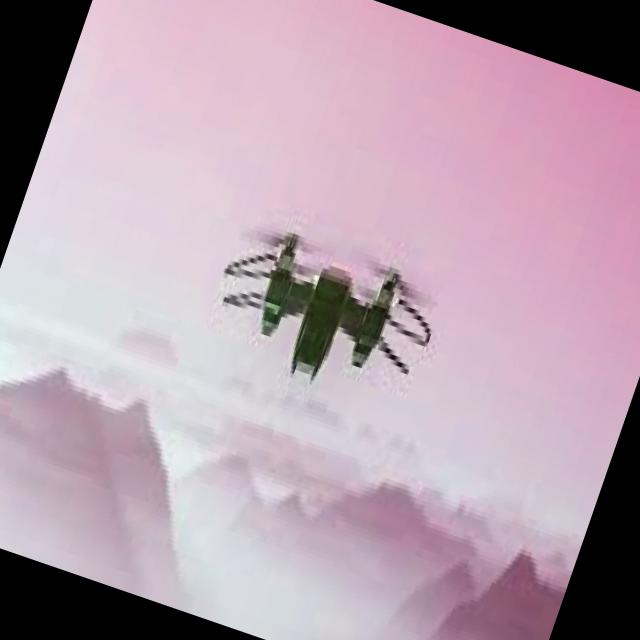drone: (176, 180, 467, 454)
